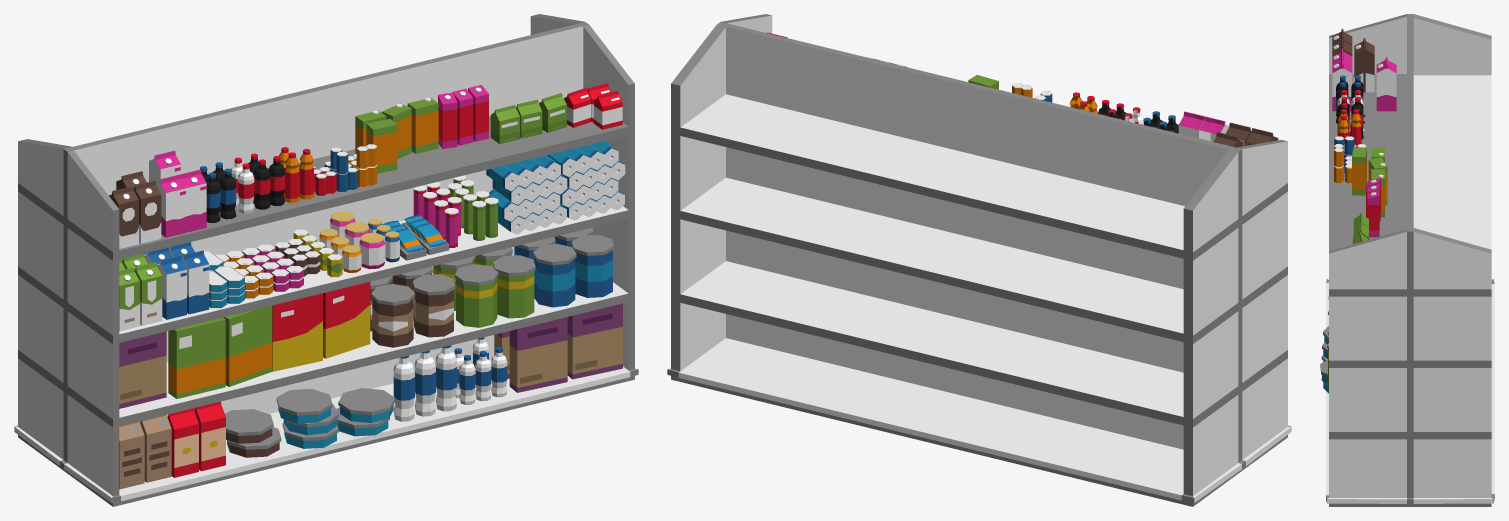
File: SMless_shelf_01.fbx
The picture shows the model from 3 angles, left to right: view 1: azimuth 30°, elevation 25°; view 2: azimuth 150°, elevation 25°; view 3: azimuth 270°, elevation 25°; orthographic projection. The views are drawn at different scales.
Parts seen in each view (by area): view 1: SMless_shelf_game_01; view 2: SMless_shelf_game_01; view 3: SMless_shelf_game_01.
Part boxes in pixels (<box>): SMless_shelf_game_01: <box>14,14,638,506</box>; SMless_shelf_game_01: <box>667,14,1291,506</box>; SMless_shelf_game_01: <box>1320,14,1494,506</box>.
Bounding box in the file's own units: 406 × 236 × 135.
